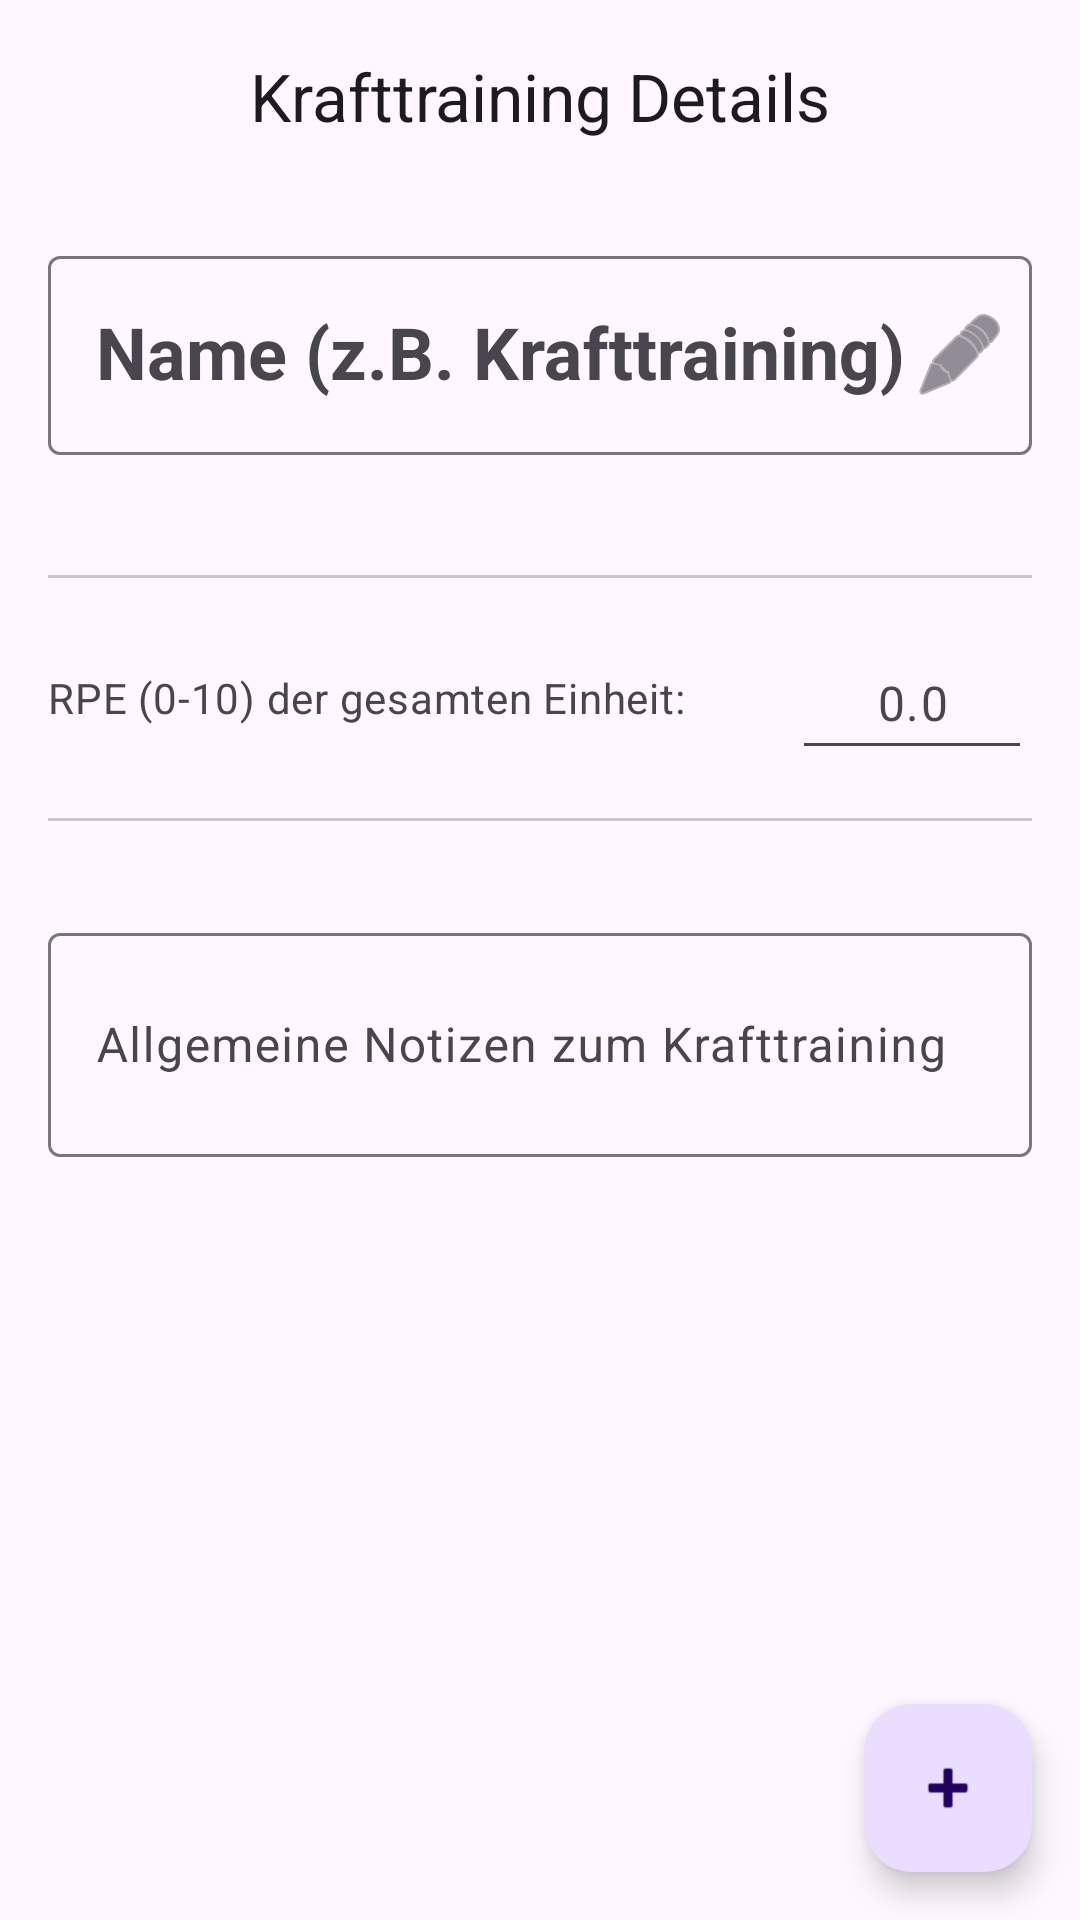

Icons on this 1080x1920 Android screen, each with the point to tap as point (x, y):
Neue Trainingseinheit hinzufügen: point (948, 1788)
